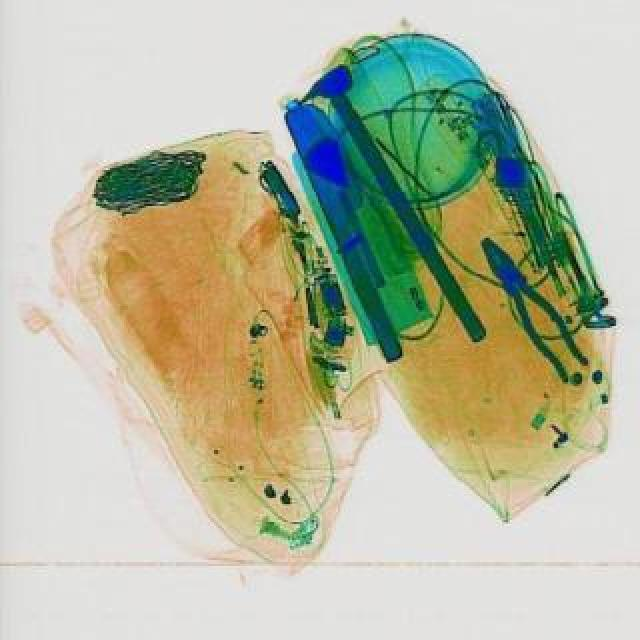wrench: (466, 230, 594, 390)
